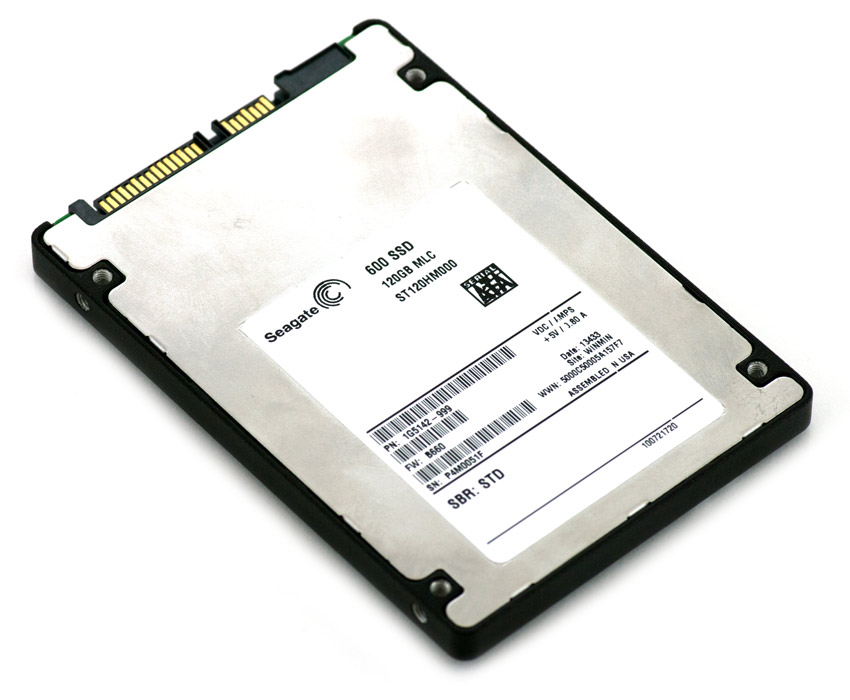seagate-hdd-240gb: (45, 11, 802, 661)
